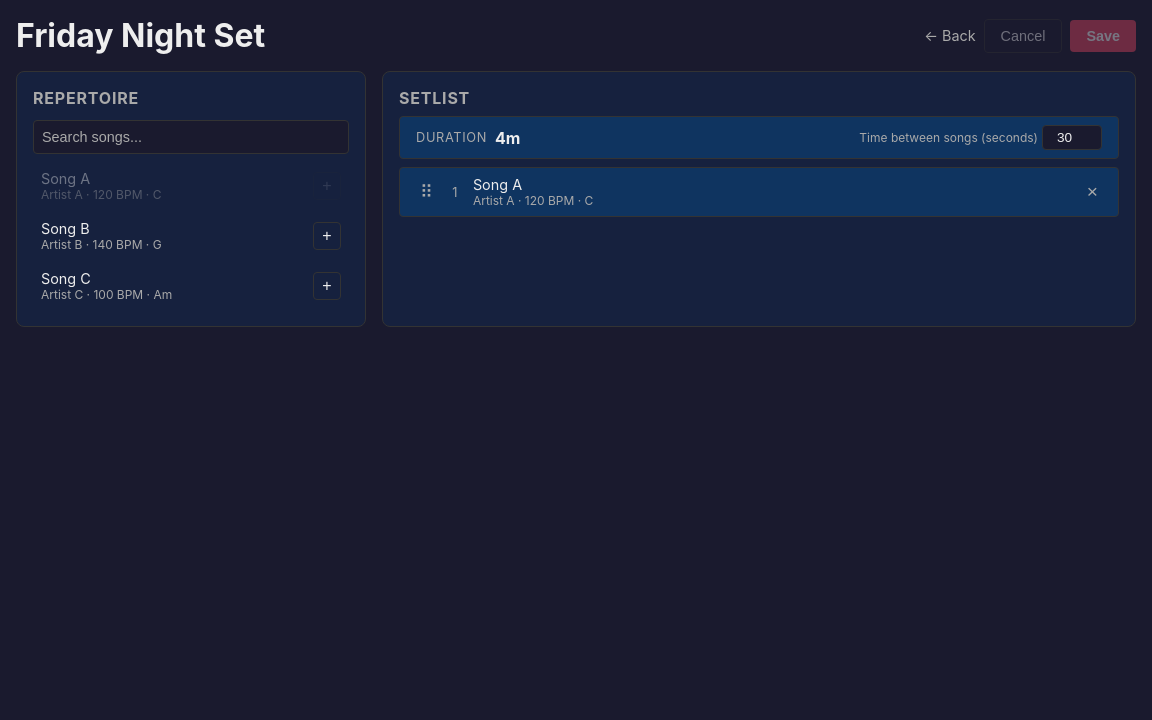
it: EditorLayout › renders My Notes textarea when a member is selected
Expected: the heading "Friday Night Set" is shown, [16, 16, 265, 55]
Click the text "Song A" below "4m" at (498, 184), box [473, 176, 522, 193]
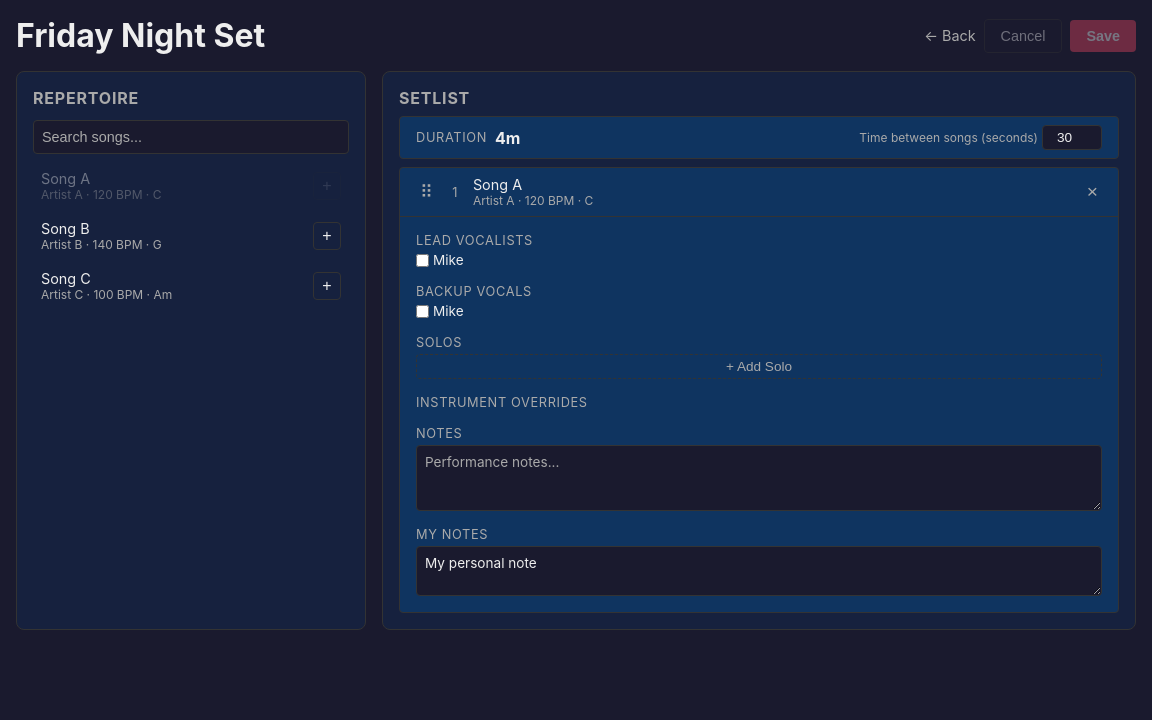
Result: the text box labelled "My Notes" holds "My personal note" at [416, 546, 1102, 596]
